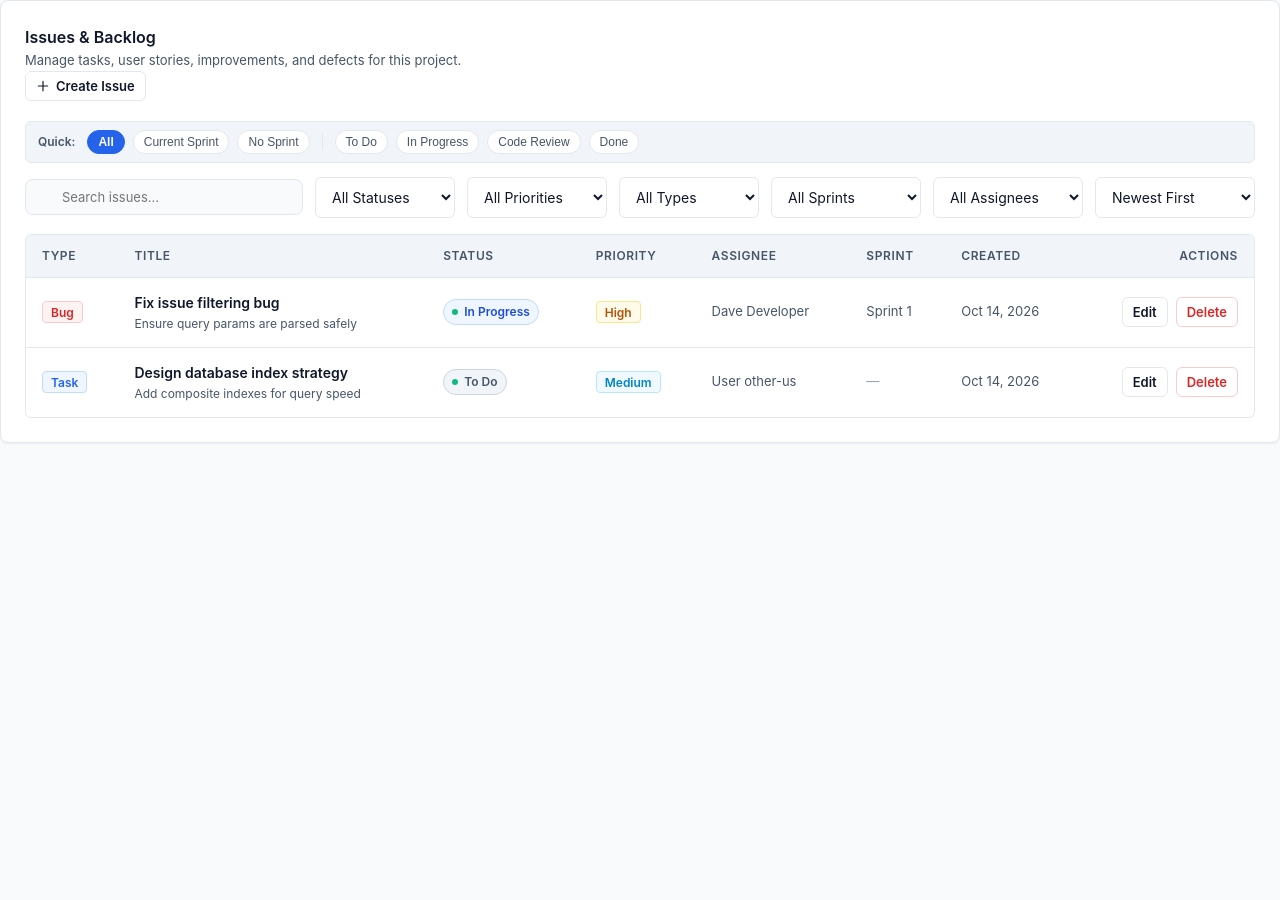
Test case: IssueList Component › opens delete confirmation and deletes issue
Expected: the link "Fix issue filtering bug" is shown, [134,294,280,310]
Click the button with aria-label "Delete Fix issue filtering bug".
click(1207, 312)  # box [1176,297,1238,327]
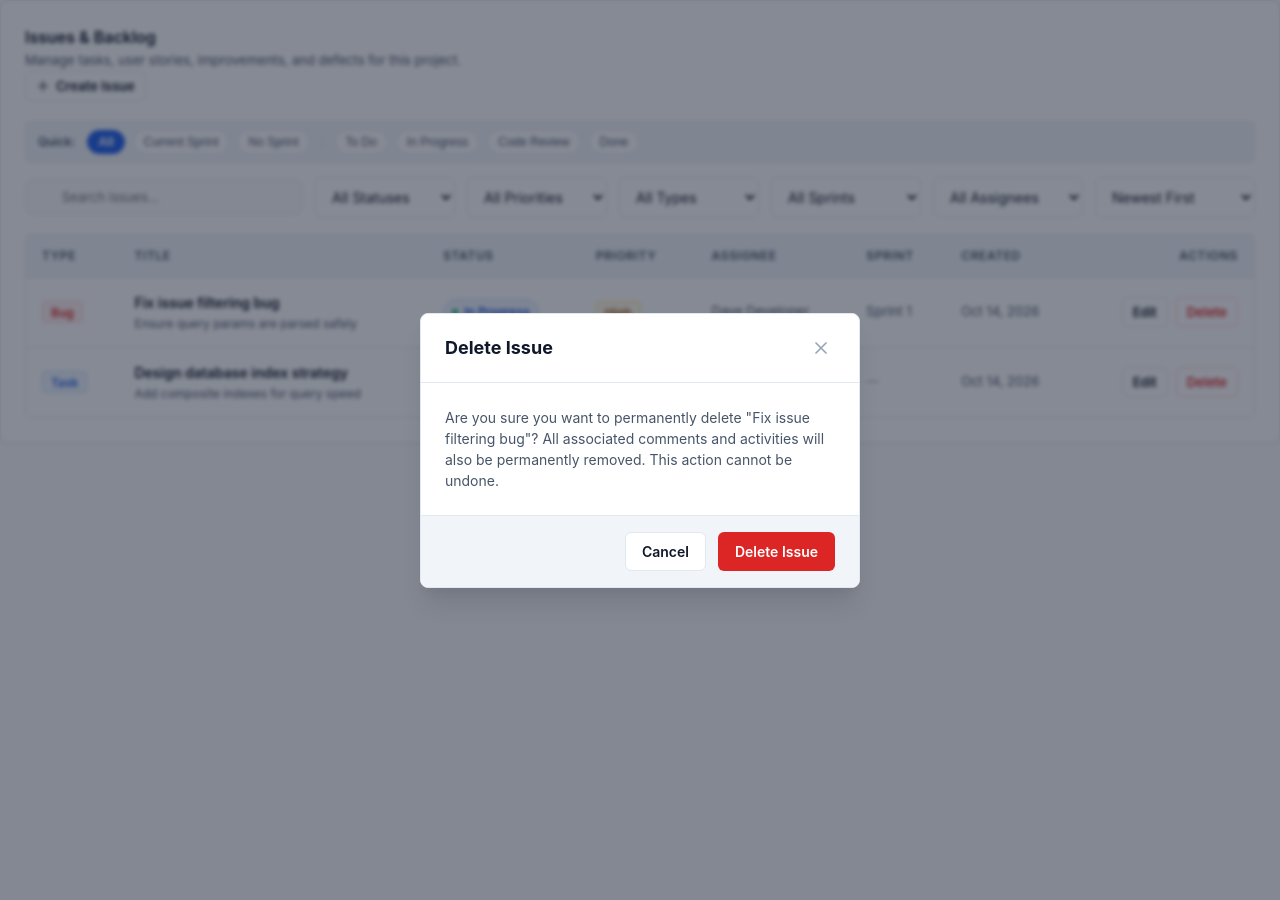
Now the heading "Delete Issue" is shown, box [445,334,553,361]
Now the text "Are you sure you want to permanently delete \"Fix issue filtering bug\"?" is shown, box [445,408,824,488]
# Confirm inside modal
Click the button "Delete Issue".
click(776, 551)  # box [718,532,835,570]
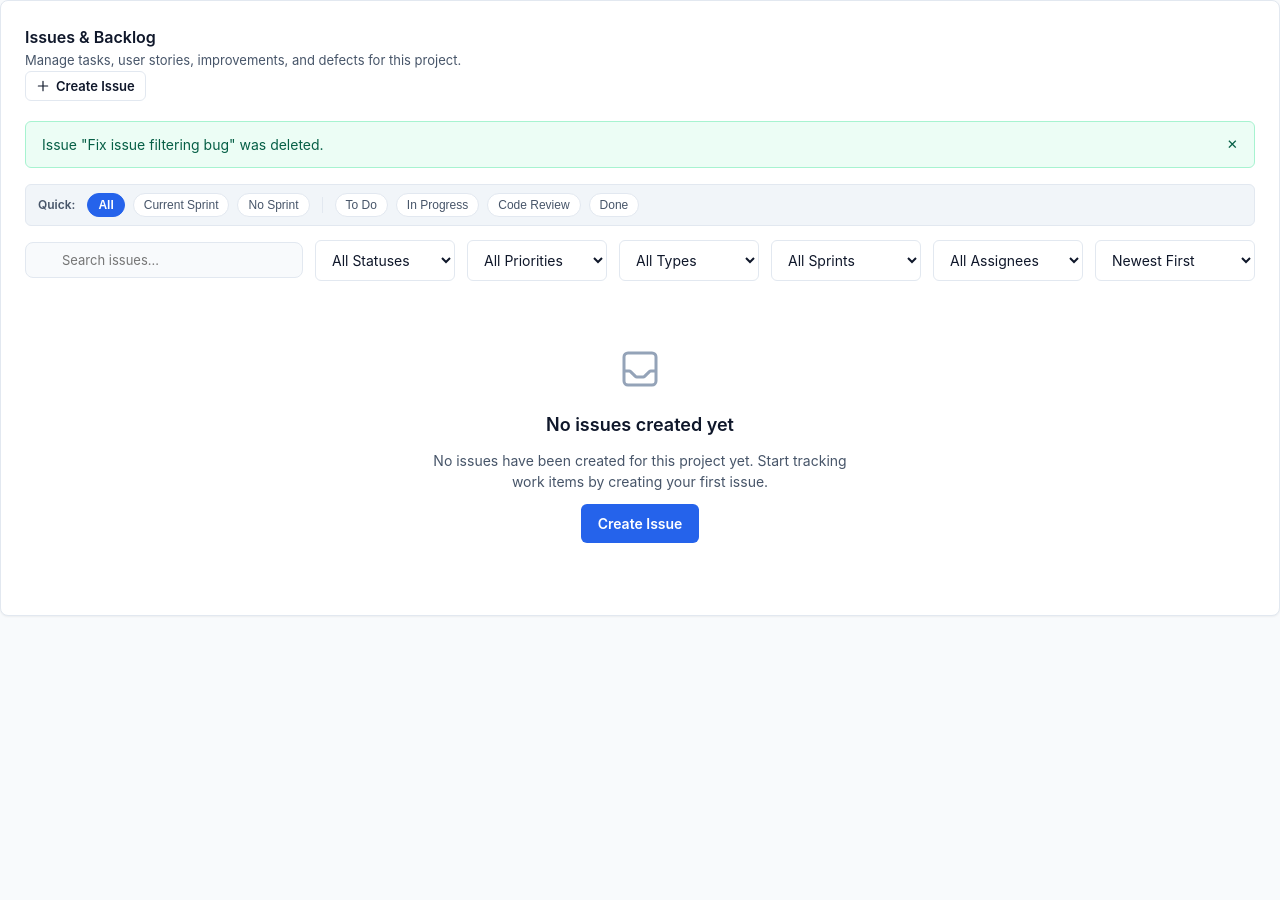
Now the text "Issue \"Fix issue filtering bug\" was deleted." is shown, box [42,134,324,154]
